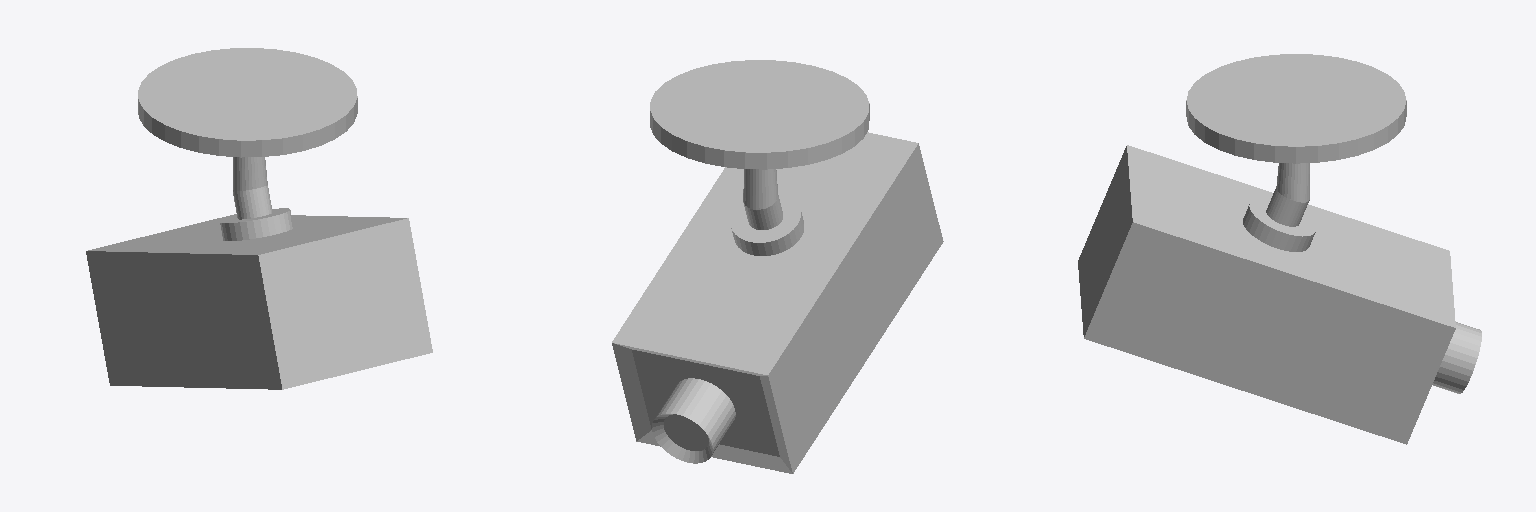
The model's file is securitycam.obj.
3 renders of one model, left to right at view 1: azimuth 30°, elevation 25°; view 2: azimuth 150°, elevation 25°; view 3: azimuth 270°, elevation 25°, orthographic.
Parts seen in each view (by area): view 1: Securitycam_Cylinder.002; view 2: Securitycam_Cylinder.002; view 3: Securitycam_Cylinder.002.
Boxes of the visible parts, <box> form: Securitycam_Cylinder.002: <box>86,48,432,389</box>; Securitycam_Cylinder.002: <box>612,60,943,473</box>; Securitycam_Cylinder.002: <box>1078,54,1481,444</box>.
Bounding box in the file's own units: 1.26 × 1.96 × 2.31.